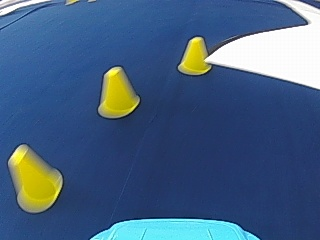cone: (7, 145, 63, 212), (97, 66, 140, 119), (177, 36, 211, 75)
